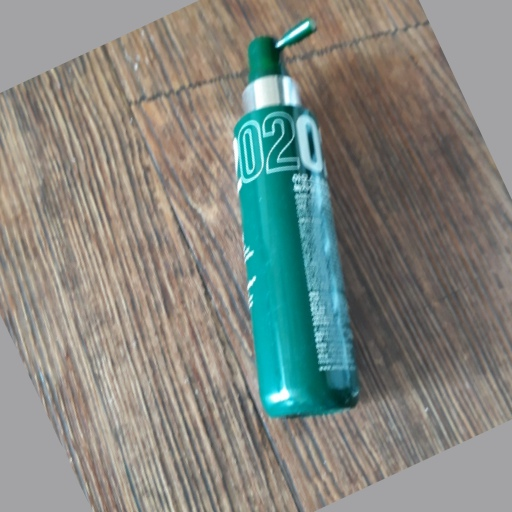Plastic_3: (231, 17, 371, 417)
